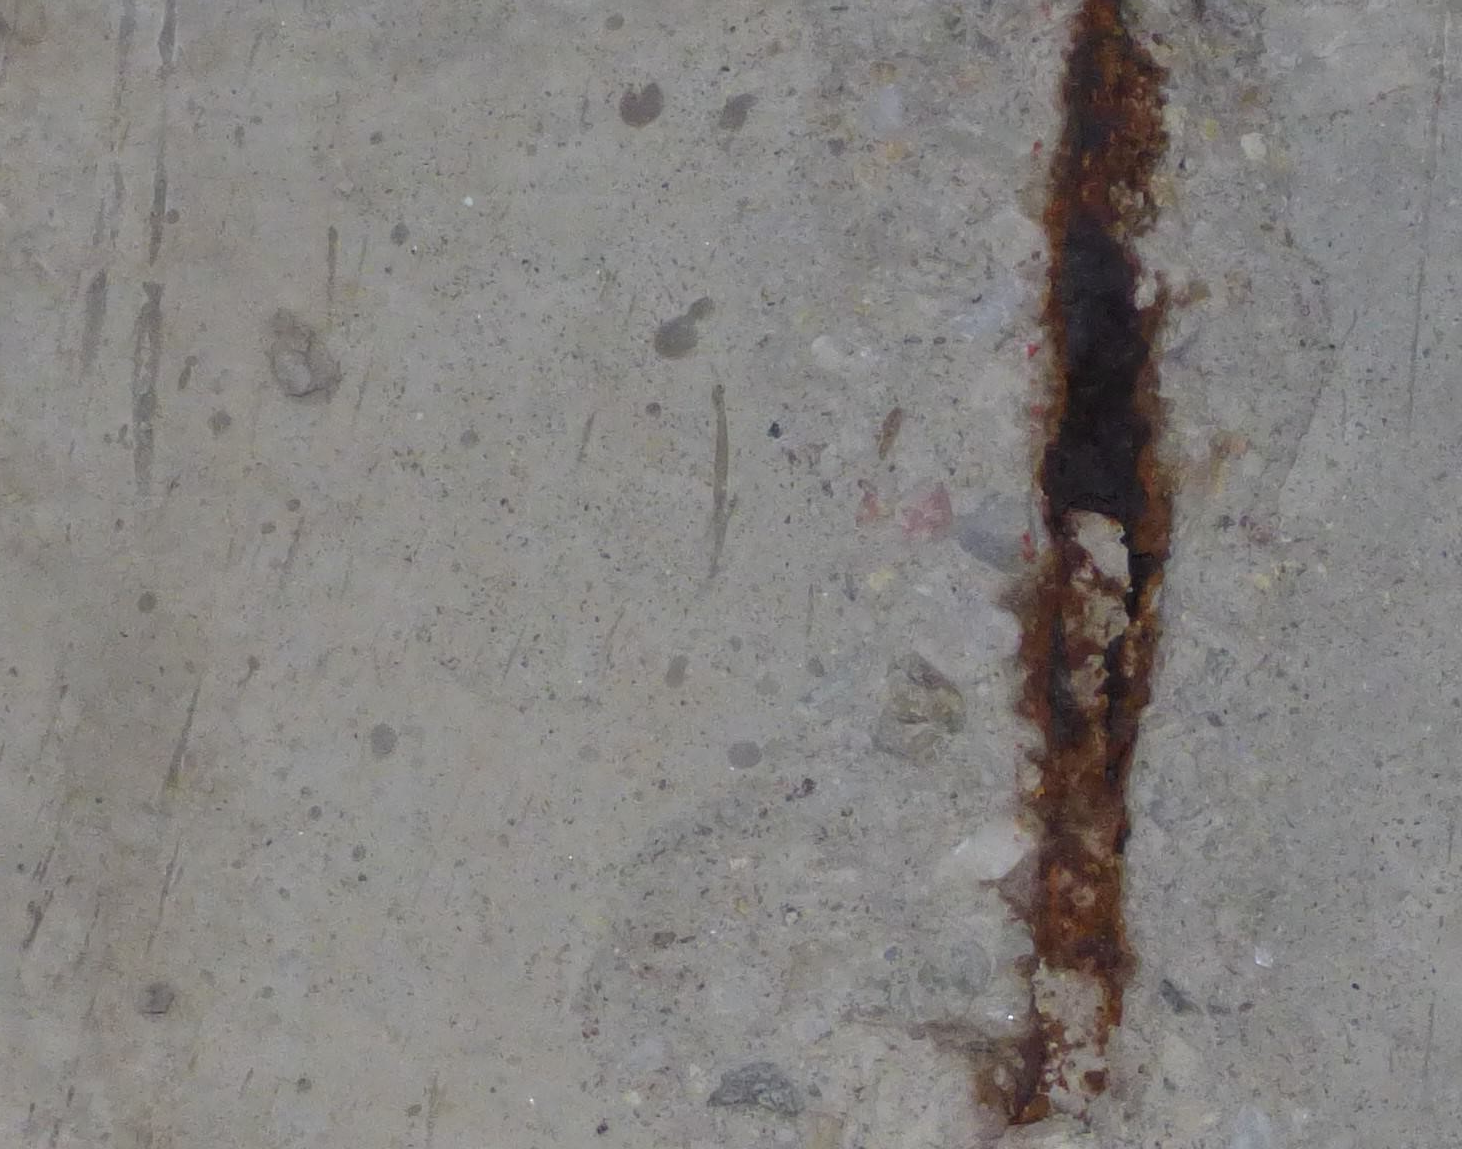Exposed reinforcement: (1007, 1, 1172, 1134)
